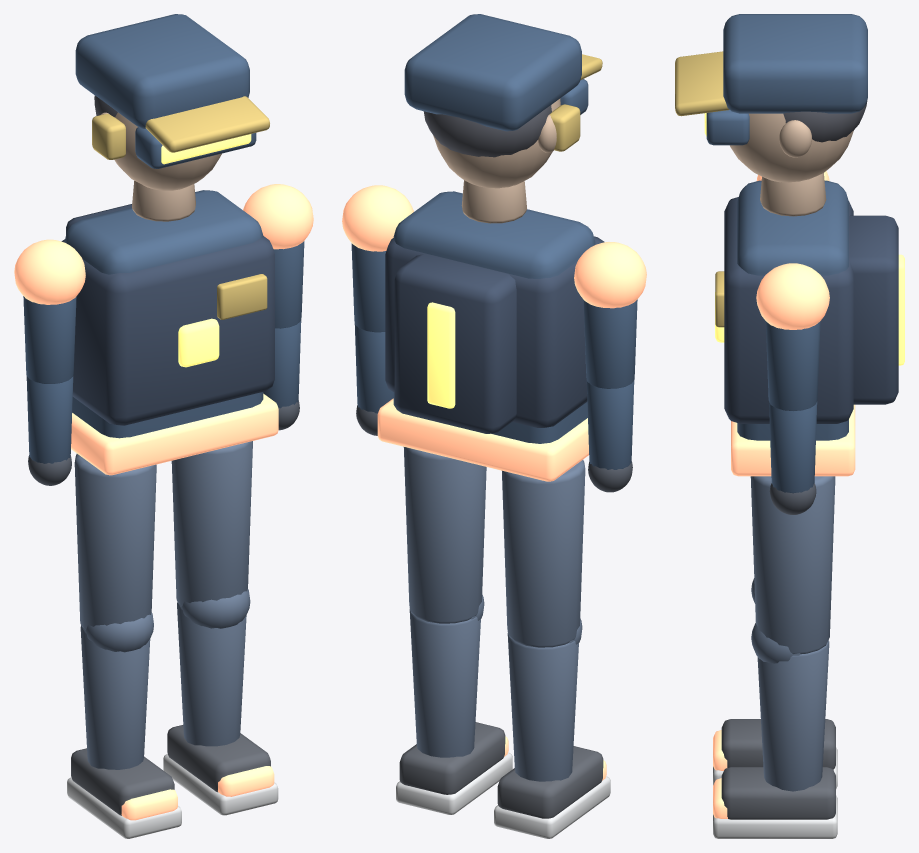
File: Hunter_Character.glb
3 renders of one model, left to right at view 1: azimuth 30°, elevation 25°; view 2: azimuth 150°, elevation 25°; view 3: azimuth 270°, elevation 25°, orthographic. The views are drawn at different scales.
Visible parts, largest first — view 1: TacticalVest, CapCrown, TorsoJacket, LegR_Pivot_Thigh, LegL_Pivot_Thigh, ShinL_Pivot_Calf, ShinR_Pivot_Calf, UtilityBelt, CapBrim, UpperArmR, ShoulderR, ForeArmR (+19 smaller); view 2: BackTank, CapCrown, LegR_Pivot_Thigh, LegL_Pivot_Thigh, TacticalVest, TorsoJacket, ShinL_Pivot_Calf, ShinR_Pivot_Calf, UtilityBelt, UpperArmR, ShinR_Pivot_ShoeUpper, ShinL_Pivot_ShoeUpper (+14 smaller); view 3: CapCrown, TacticalVest, LegL_Pivot_Thigh, BackTank, TorsoJacket, ShinL_Pivot_Calf, ShinL_Pivot_ShoeUpper, HeadCranium, UpperArmL, ShoulderL, ForeArmL, UtilityBelt (+11 smaller).
Boxes of the visible parts, x1,y1,x2,y2 form: TacticalVest: (61, 236, 274, 425); CapCrown: (75, 14, 249, 128); TorsoJacket: (64, 190, 263, 438); LegR_Pivot_Thigh: (74, 454, 156, 629); LegL_Pivot_Thigh: (171, 441, 252, 606); ShinL_Pivot_Calf: (177, 602, 246, 746); ShinR_Pivot_Calf: (80, 625, 150, 769); UtilityBelt: (71, 393, 278, 475); CapBrim: (145, 96, 269, 152); UpperArmR: (23, 296, 76, 383); ShoulderR: (14, 239, 85, 304); ForeArmR: (26, 376, 73, 463); BackTank: (394, 254, 516, 433); CapCrown: (404, 14, 581, 131); LegR_Pivot_Thigh: (502, 460, 585, 647); LegL_Pivot_Thigh: (403, 447, 486, 623); TacticalVest: (385, 236, 604, 427); TorsoJacket: (393, 191, 595, 443); ShinL_Pivot_Calf: (409, 609, 480, 757); ShinR_Pivot_Calf: (507, 633, 578, 781); UtilityBelt: (377, 398, 588, 481); UpperArmR: (583, 299, 637, 388); ShinR_Pivot_ShoeUpper: (497, 746, 603, 818); ShinL_Pivot_ShoeUpper: (399, 722, 505, 794); CapCrown: (723, 14, 867, 113); TacticalVest: (724, 197, 853, 423); LegL_Pivot_Thigh: (750, 476, 835, 654); BackTank: (849, 215, 898, 404); TorsoJacket: (737, 180, 848, 440); ShinL_Pivot_Calf: (757, 640, 829, 791); ShinL_Pivot_ShoeUpper: (721, 767, 835, 819); HeadCranium: (730, 113, 853, 182); UpperArmL: (765, 321, 820, 410); ShoulderL: (756, 263, 829, 329); ForeArmL: (769, 401, 817, 493); UtilityBelt: (731, 404, 855, 476).
Bounding box in the file's own units: 0.675 × 1.66 × 0.4523.
